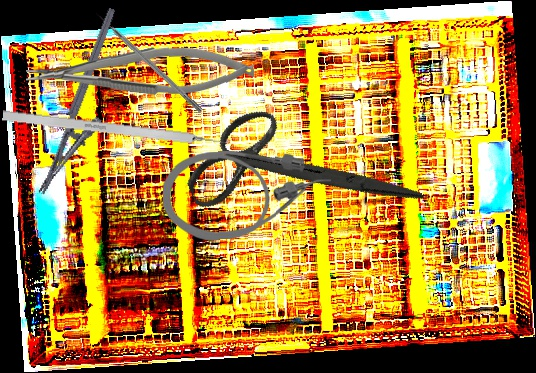Cannula: (162, 149, 332, 241)
Hook Surgical: (94, 10, 205, 113), (2, 109, 237, 150)
Iris Scissors: (170, 61, 426, 285)
Needle Holder: (36, 7, 142, 205), (25, 44, 255, 97)
